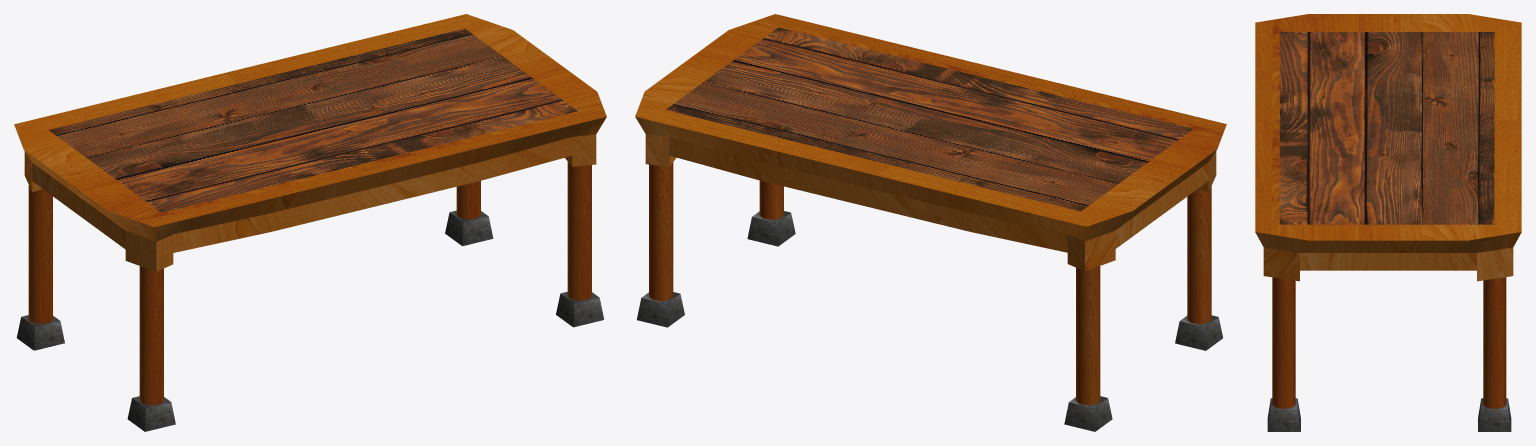
Rendered from Table.FBX.
3 views of the same model, side by side, from view 1: azimuth 30°, elevation 25°; view 2: azimuth 150°, elevation 25°; view 3: azimuth 270°, elevation 25° (orthographic). The views are drawn at different scales.
Visible parts, largest first — view 1: Table; view 2: Table; view 3: Table.
Part boxes in pixels (left/top/right/bottom): Table: left=14, top=14, right=606, bottom=431; Table: left=635, top=14, right=1226, bottom=431; Table: left=1255, top=14, right=1521, bottom=431.
Size of the model in its own units: 127 by 63.11 by 51.75.
Materials: 1 (1 with a texture image).
